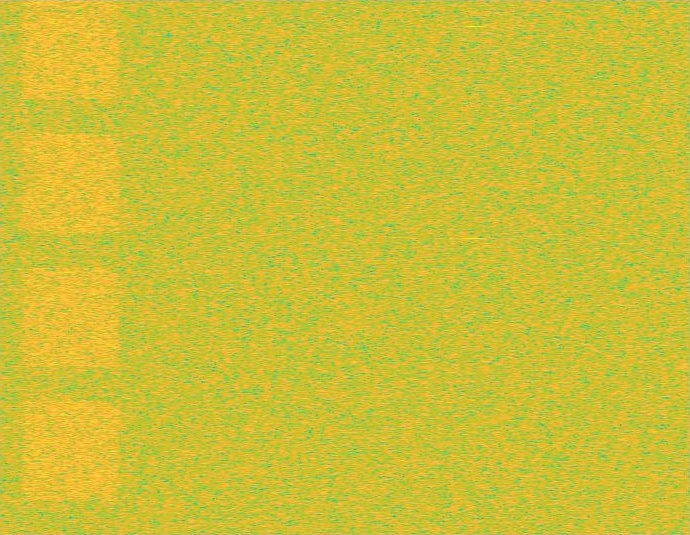5G: (19, 0, 123, 534)
Radar: (468, 0, 481, 534)
